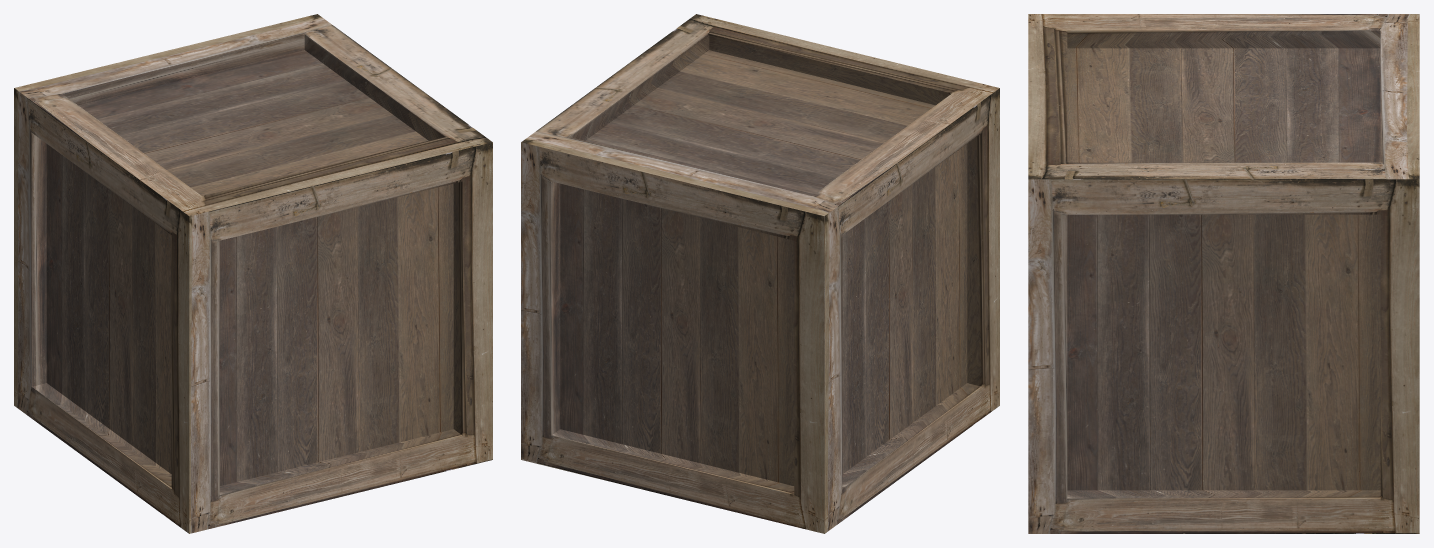
Rendered from WoodBox.fbx.
The picture shows the model from 3 angles, left to right: view 1: azimuth 30°, elevation 25°; view 2: azimuth 150°, elevation 25°; view 3: azimuth 270°, elevation 25°; orthographic projection. The views are drawn at different scales.
Visible parts, largest first — view 1: Cube; view 2: Cube; view 3: Cube.
Boxes of the visible parts, x1,y1,x2,y2 form: Cube: (14,14,492,533); Cube: (521,14,999,533); Cube: (1028,14,1419,533).
Bounding box in the file's own units: 2 × 2 × 2.
